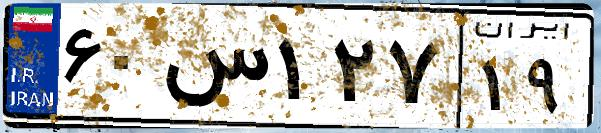0: (110, 28, 158, 98)
1: (270, 28, 330, 110), (475, 38, 525, 113)
2: (330, 28, 385, 110)
6: (57, 26, 110, 100)
7: (385, 28, 445, 110)
9: (525, 38, 570, 115)
س: (158, 20, 270, 120)
